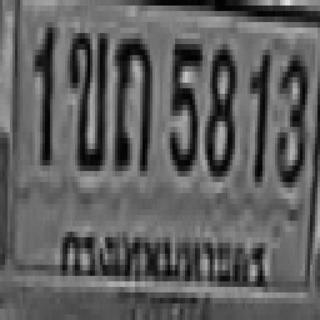A02: (67, 28, 106, 173)
A22: (112, 33, 152, 174)
N01: (32, 16, 56, 166), (249, 47, 269, 186)
N03: (274, 49, 308, 187)
N05: (168, 39, 201, 174)
N08: (204, 39, 236, 180)
P04: (53, 219, 268, 298)
